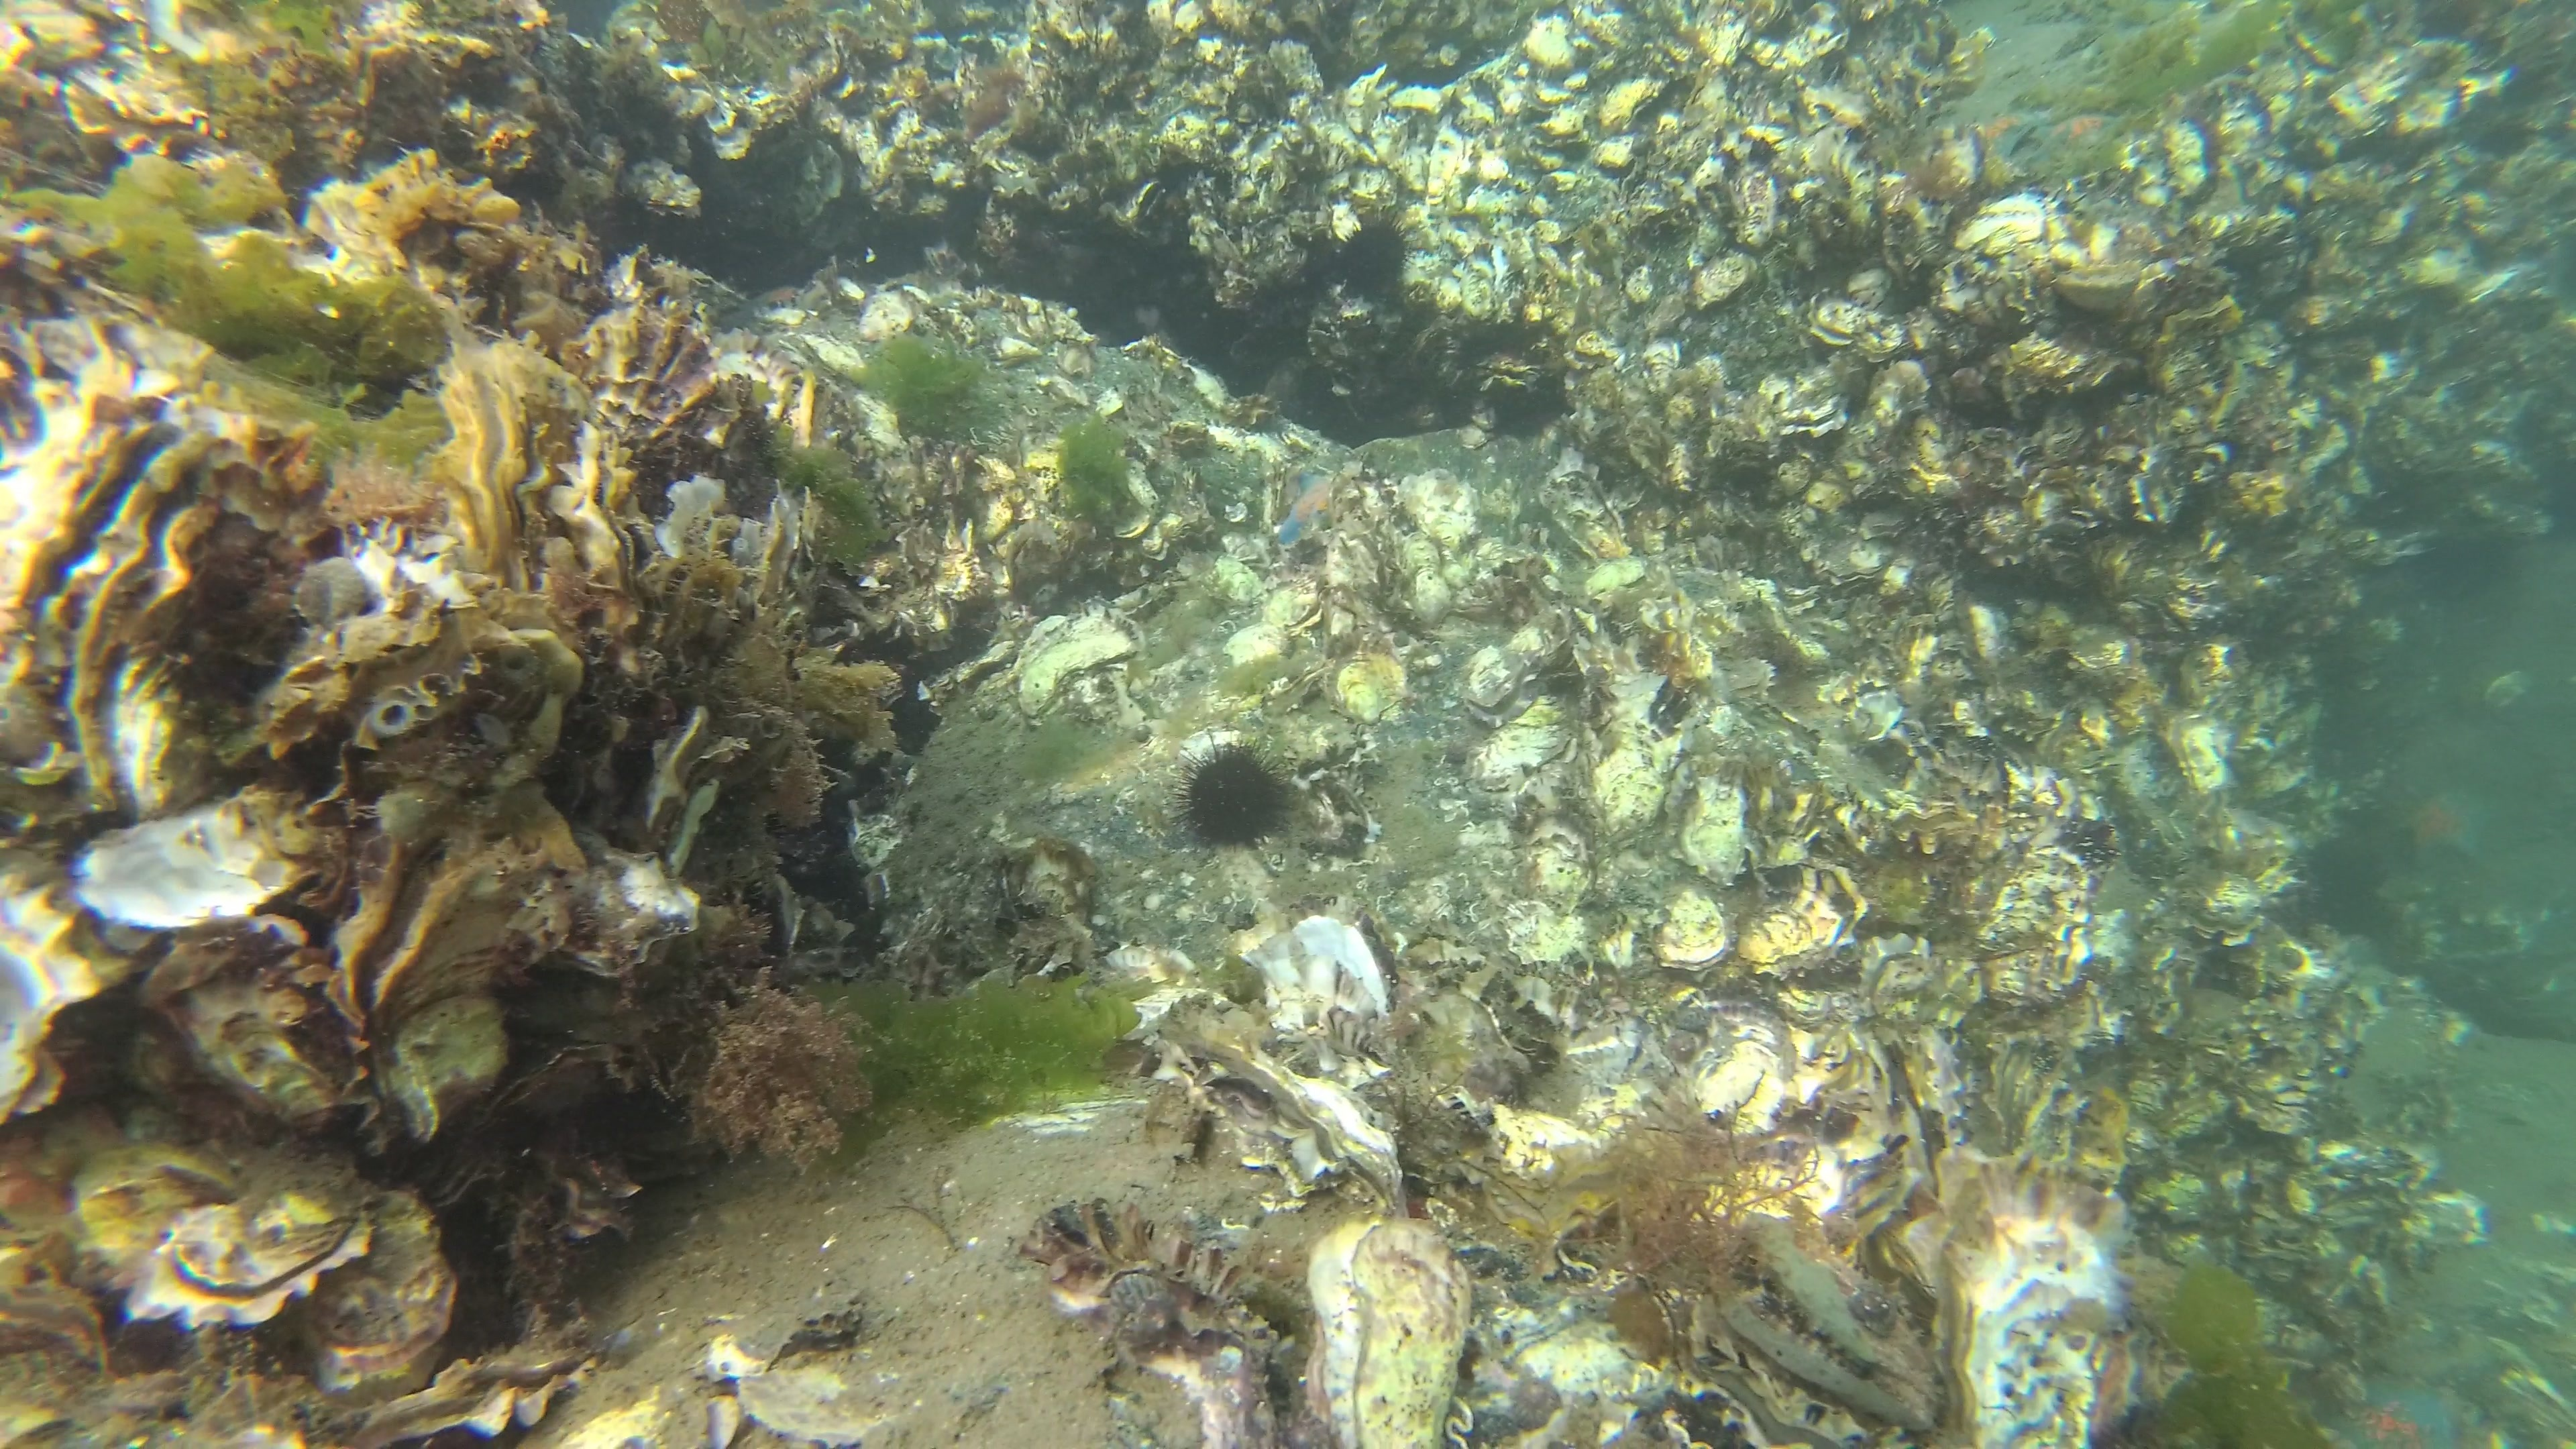echinus: (1177, 745, 1292, 856), (2304, 835, 2385, 931), (2415, 540, 2516, 602), (1338, 223, 1412, 303)
starfish: (2348, 1391, 2456, 1449), (2399, 794, 2484, 862), (1276, 472, 1338, 547), (2029, 111, 2107, 157), (1980, 111, 2031, 159)
